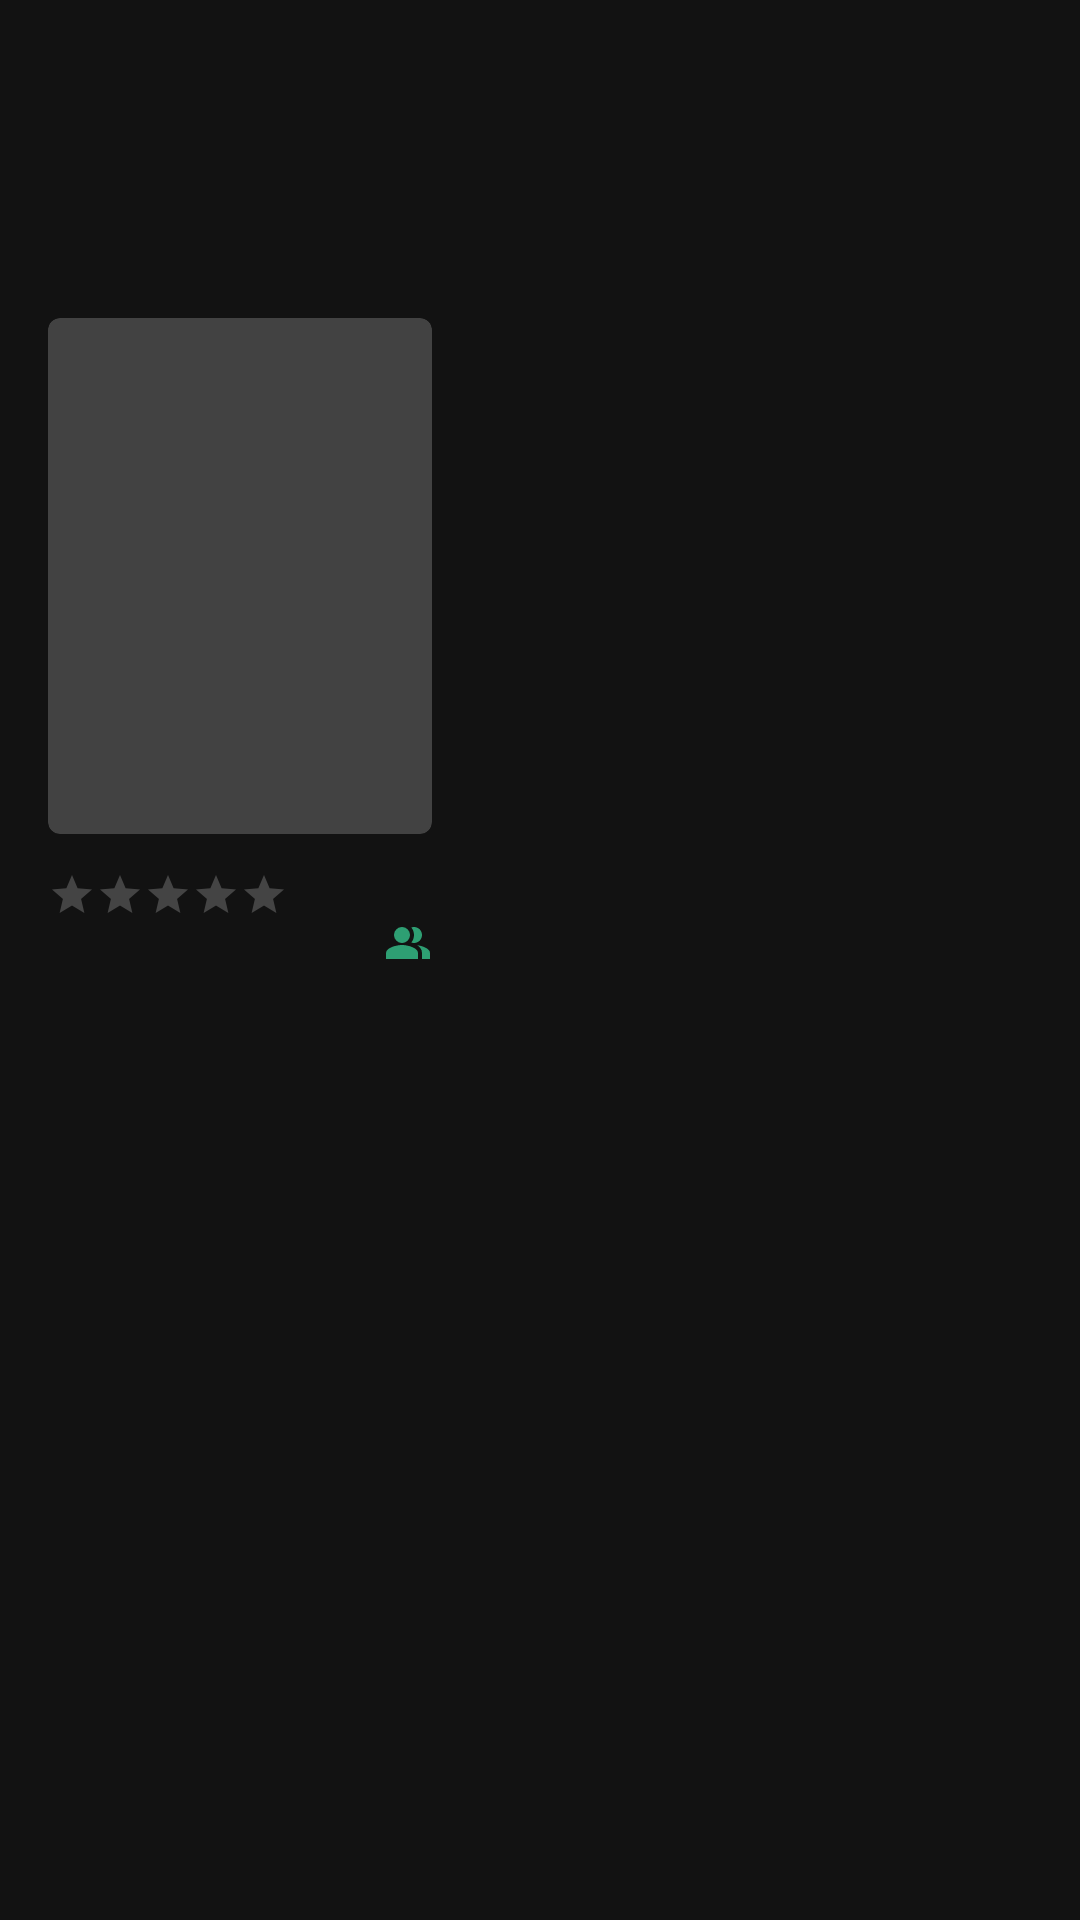

Icon bounding boxes for this 1080*1920 phone screenshot, format bbox(x1, y1, x2, y2):
people: bbox(386, 927, 430, 959)
